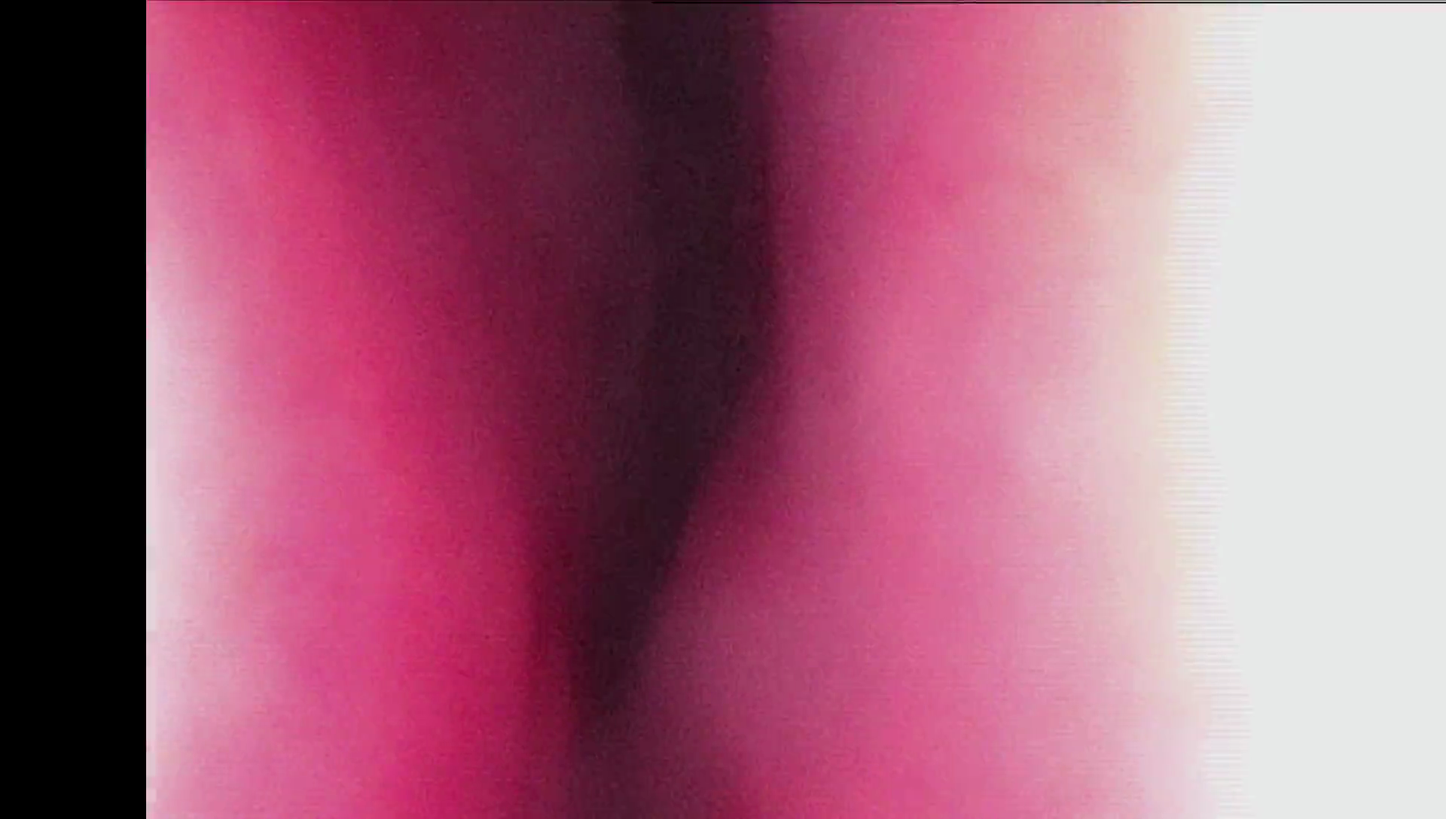close_wall: (853, 8, 1446, 819), (146, 138, 411, 819)
next: (539, 392, 733, 718), (582, 235, 769, 523), (597, 28, 807, 235)
